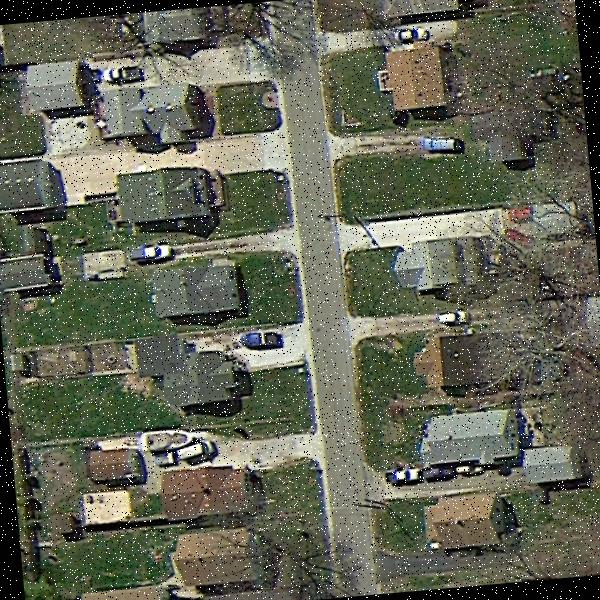Buildings: (365, 35, 451, 112), (137, 338, 234, 398), (178, 524, 262, 586), (397, 240, 487, 296), (105, 88, 190, 147), (162, 466, 254, 515), (424, 413, 516, 461), (121, 173, 216, 218), (14, 56, 90, 112), (152, 269, 236, 315), (421, 498, 501, 544), (484, 116, 548, 168), (417, 339, 478, 389), (0, 160, 52, 209), (373, 0, 482, 21), (144, 6, 213, 38), (525, 442, 575, 482), (2, 256, 54, 290), (79, 580, 166, 600), (91, 454, 133, 474)
